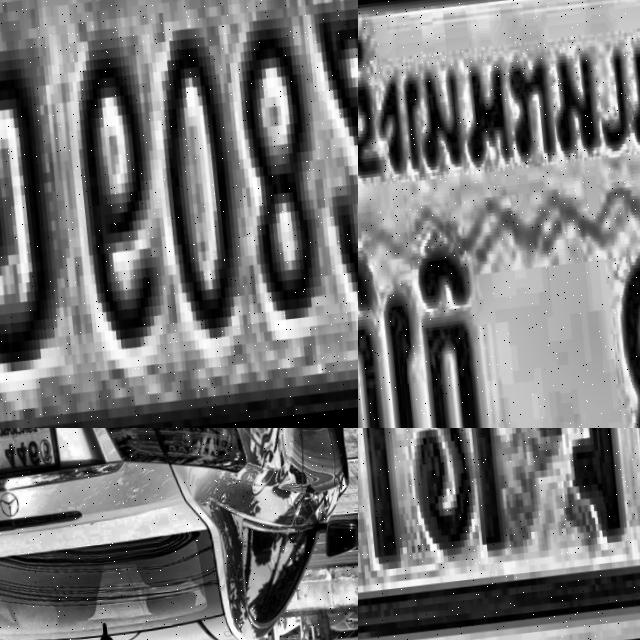license-plate: (0, 0, 358, 428), (358, 0, 640, 428), (358, 428, 640, 640), (0, 428, 60, 482)
